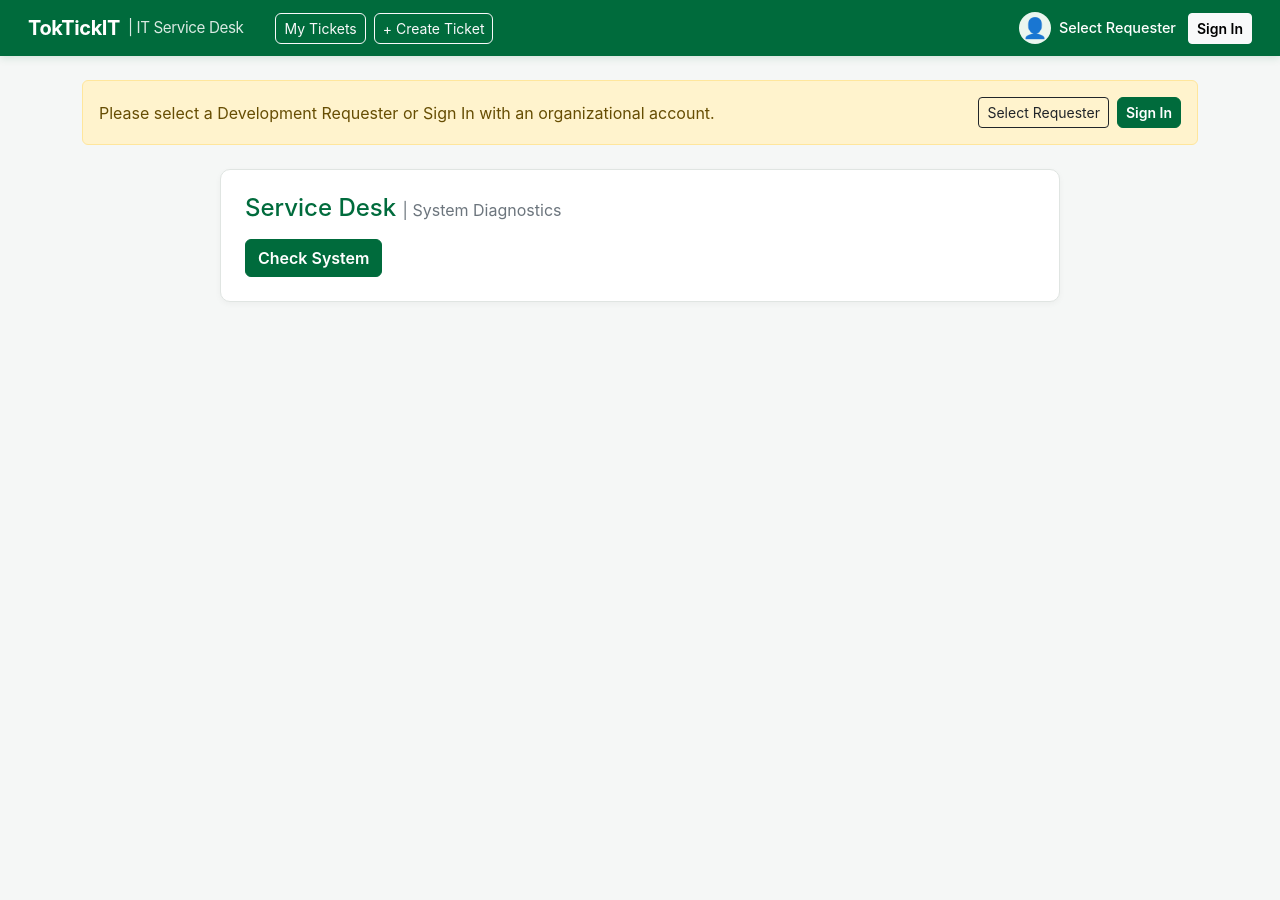
Test case: Lab 3 Auth Flow (UI-01, AC-01..03, TEST-AUTH-01..06) › displays error alert when login fails (invalid credentials or deactivated)
Click the button with test id "sign-in-prompt-button".
click(1149, 112)  # box x1=1117 y1=97 x2=1181 y2=128
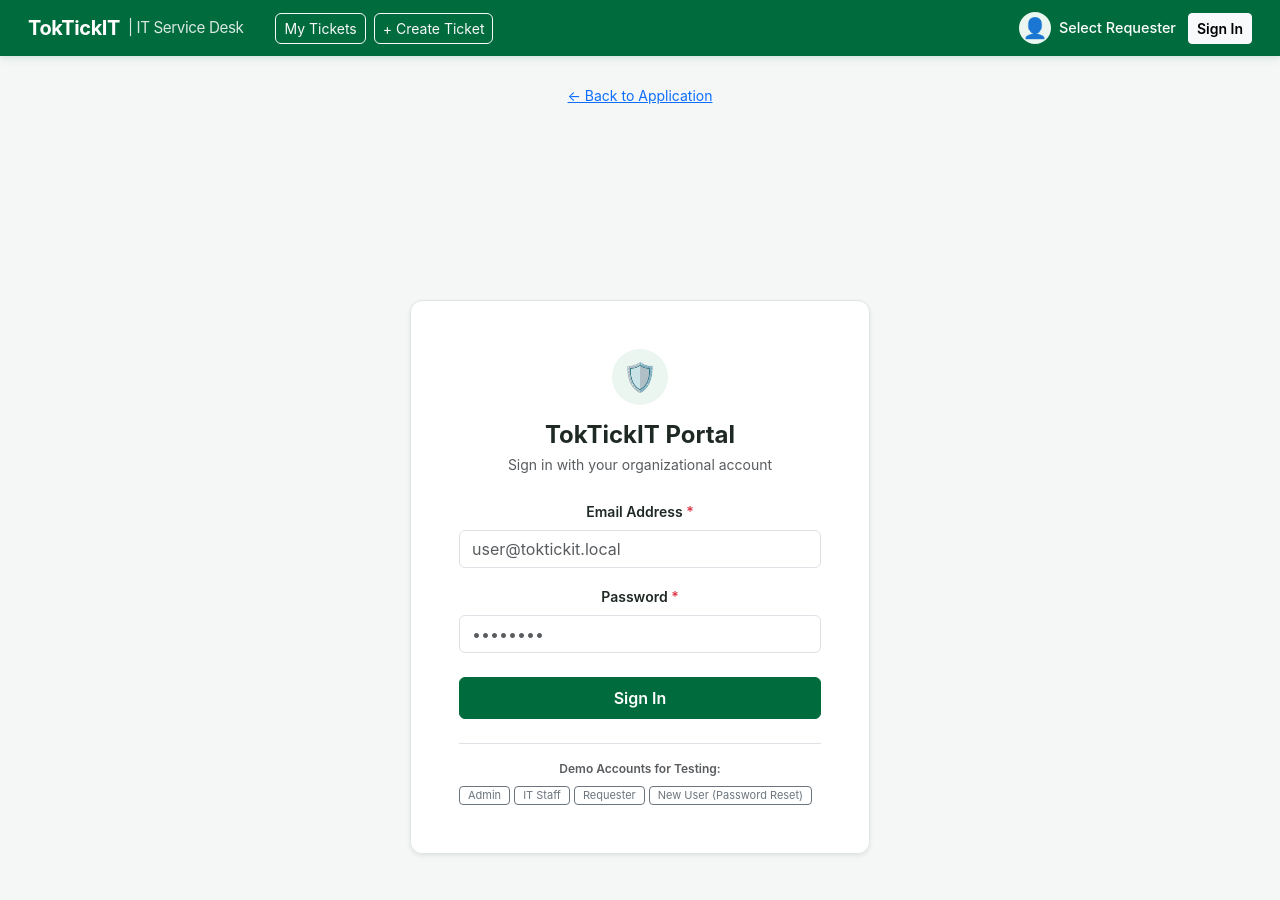
Type "staff.inactive@toktickit.local" into the field with test id "login-email-input".
click(640, 549); type("staff.inactive@toktickit.local")  # box x1=459 y1=530 x2=821 y2=568
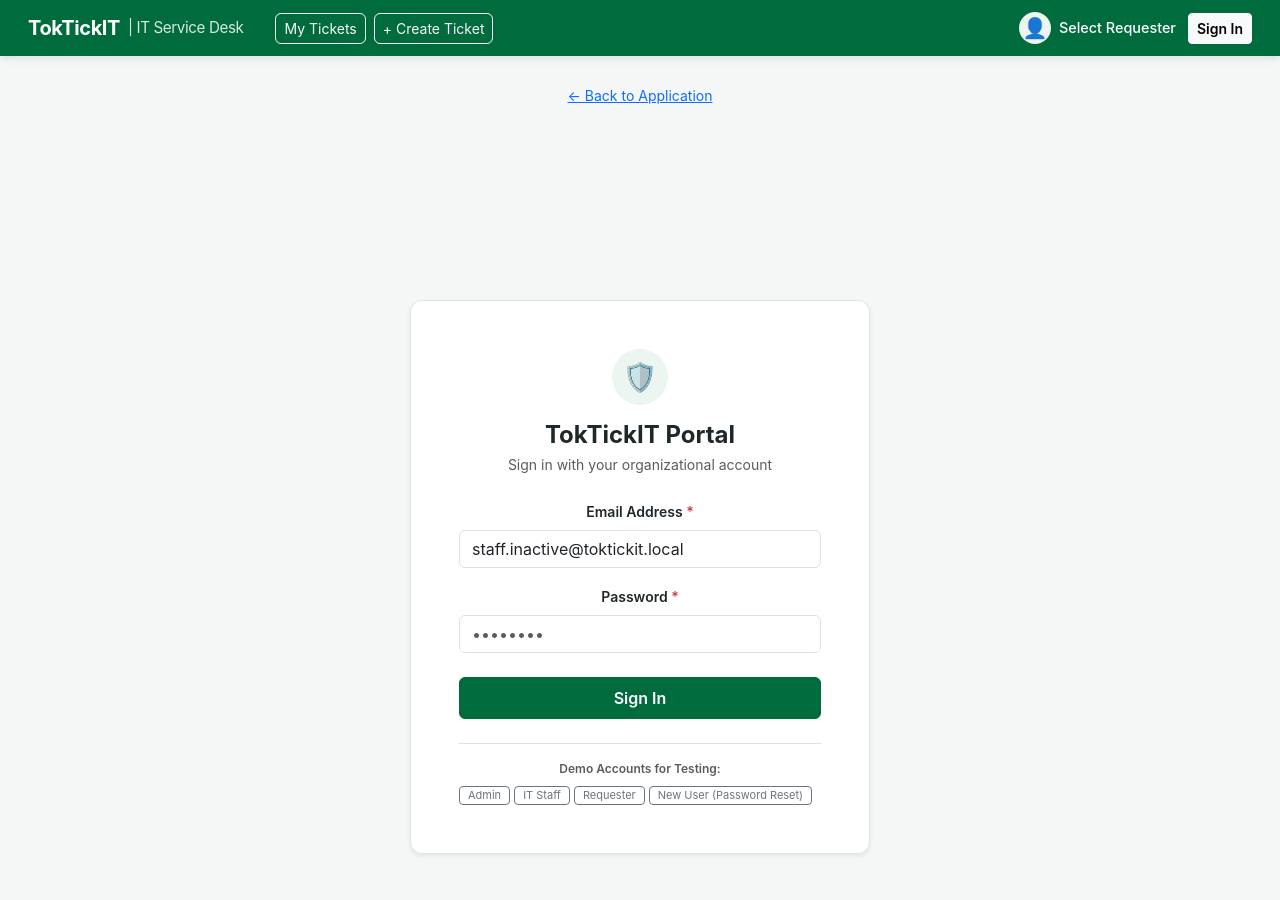
Type "Password123!" into the password field with test id "login-password-input".
click(640, 634); type("Password123!")  # box x1=459 y1=615 x2=821 y2=653
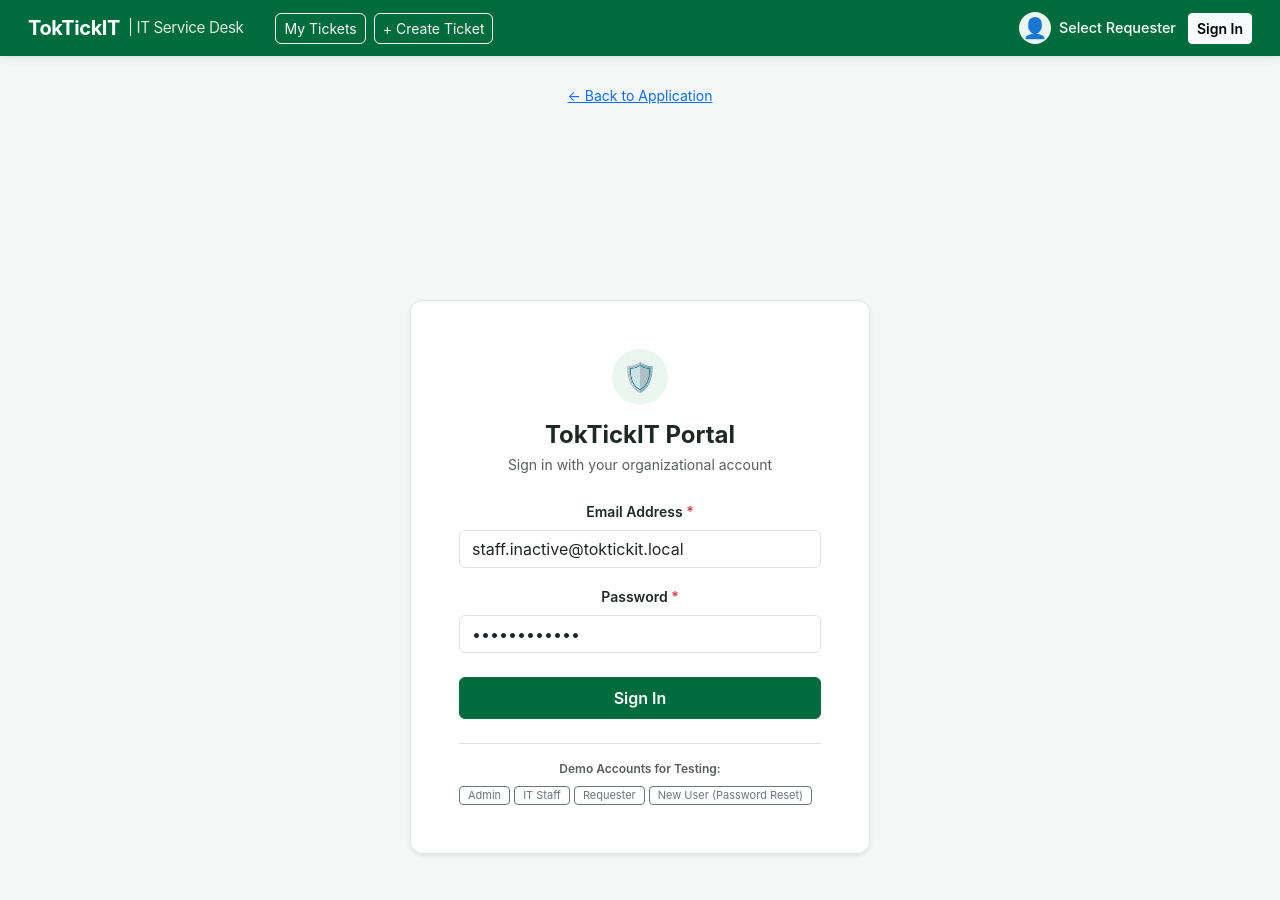
Click the button with test id "login-submit-button".
click(640, 698)  # box x1=459 y1=677 x2=821 y2=719
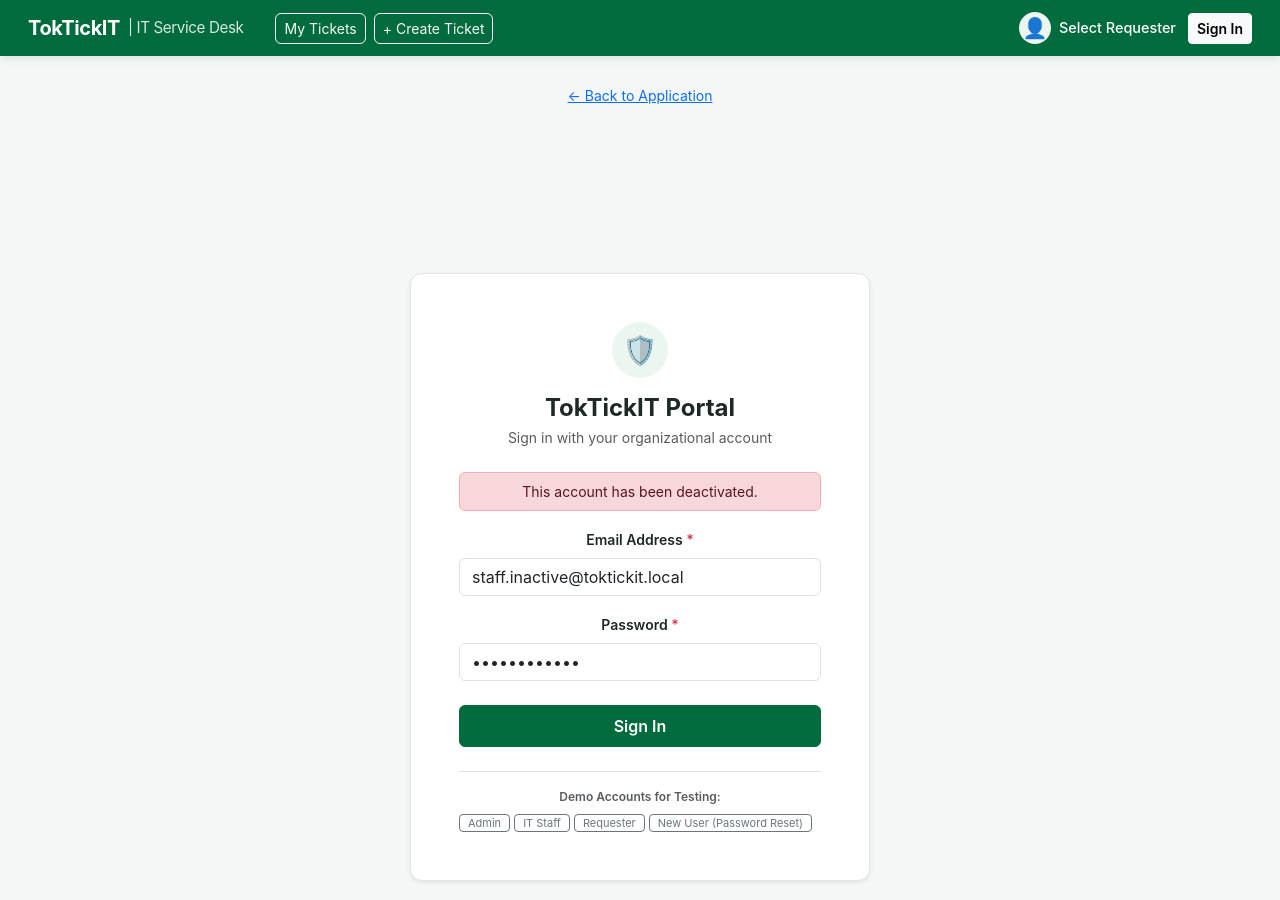
Expected: the message "This account has been deactivated." is shown, x1=459 y1=472 x2=821 y2=511
Expected: the message with test id "login-error-alert" reads "This account has been deactivated.", x1=522 y1=483 x2=758 y2=500
